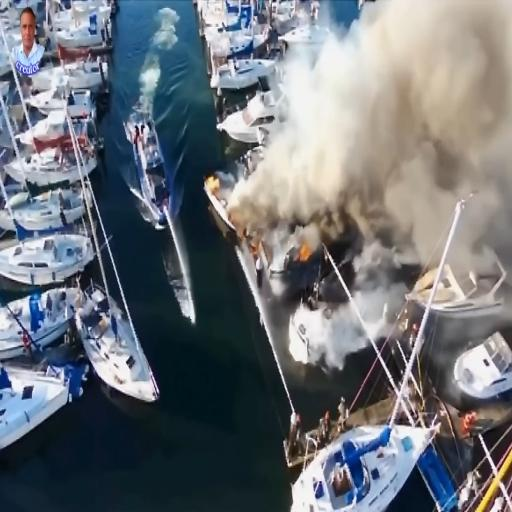smoke: (364, 0, 508, 198), (247, 60, 403, 217)
